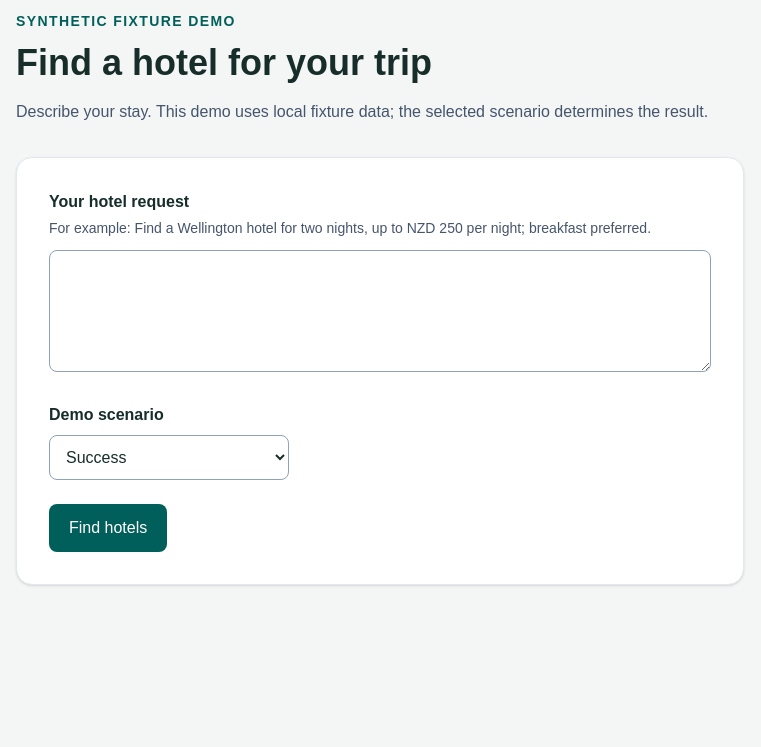
Test: recommendation request journey › times out while waiting for headers and allows manual retry
The image size is (761, 747).
Later steps or results of the test are not shown.
Type "Find a Wellington hotel for two nights." into the text box labelled "Your hotel request". click: (380, 311)
box: 49,250 -> 711,372
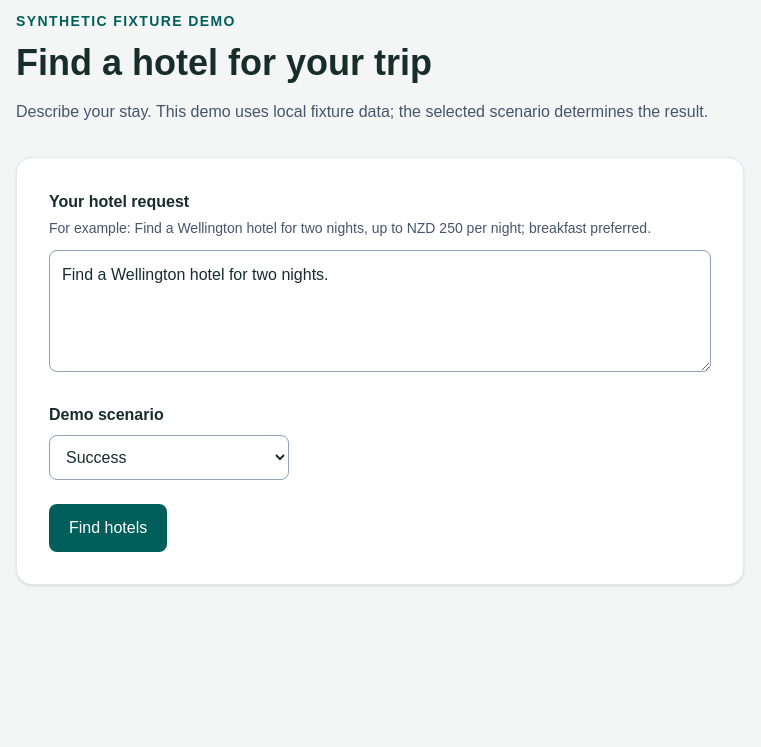
Click the button "Find hotels". click: (108, 528)
box: 49,504 -> 167,552
Wait 5000 ms
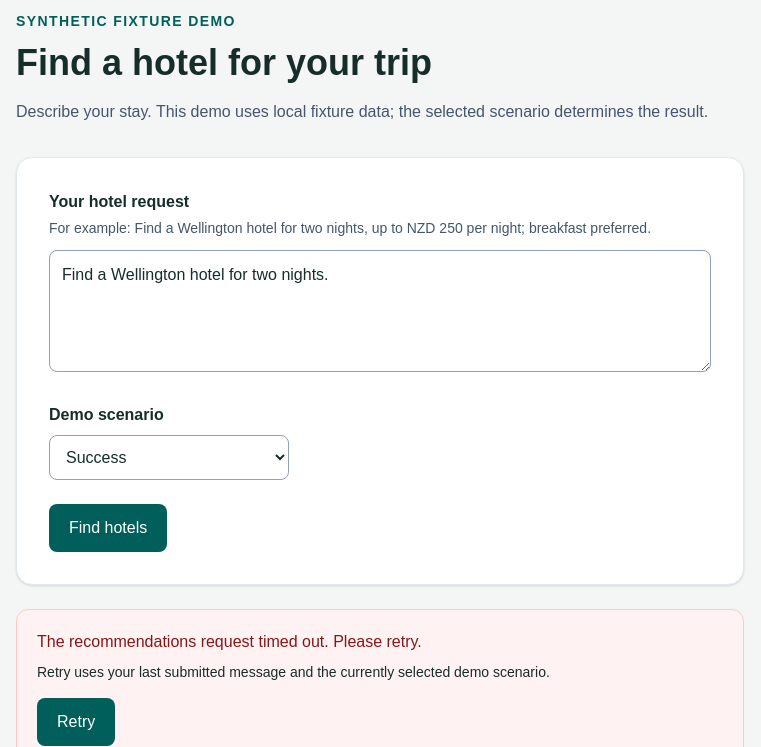
Expected: the message shows "timed out", 37,633 -> 422,650
